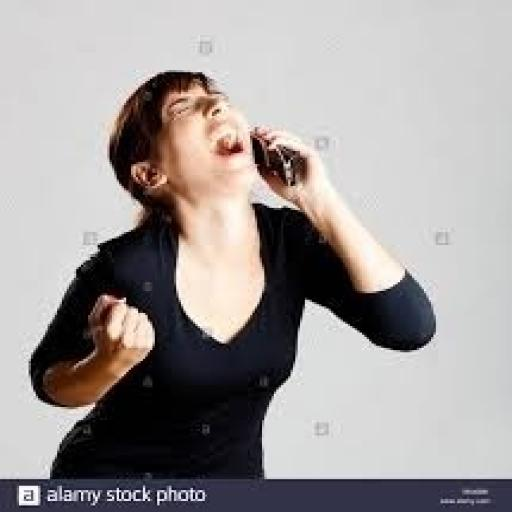calling: (26, 68, 438, 479)
